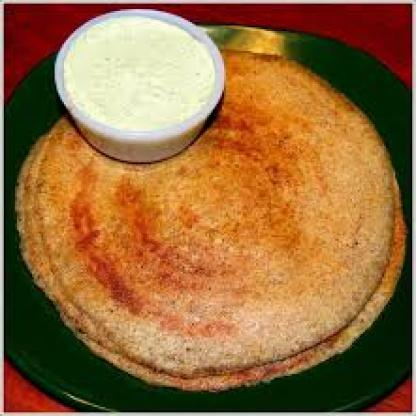dosa: (17, 49, 405, 391)
